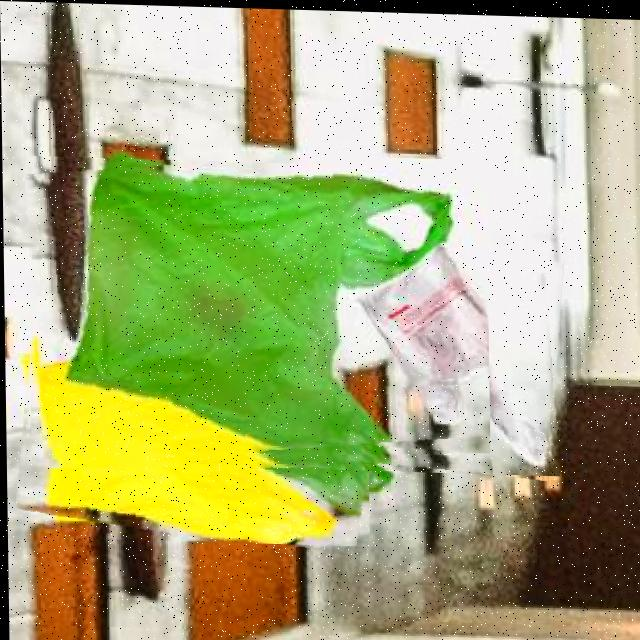litter: (27, 155, 489, 469), (17, 315, 368, 543), (329, 239, 560, 472)
